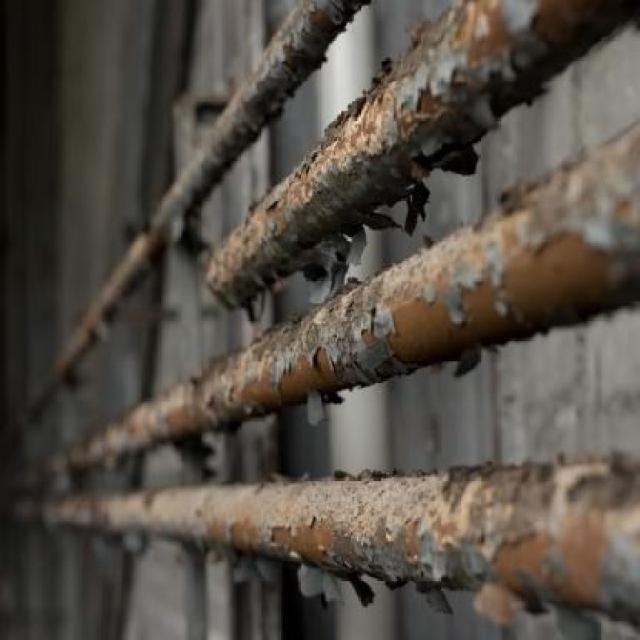corrosion: (17, 0, 640, 606)
